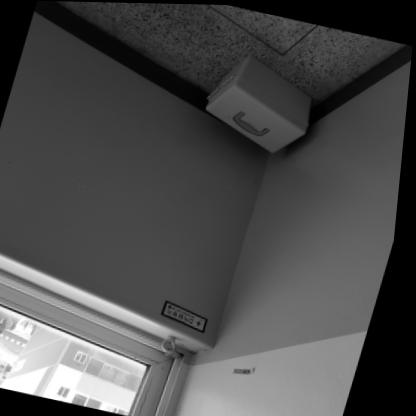DDL: (196, 46, 327, 157)
